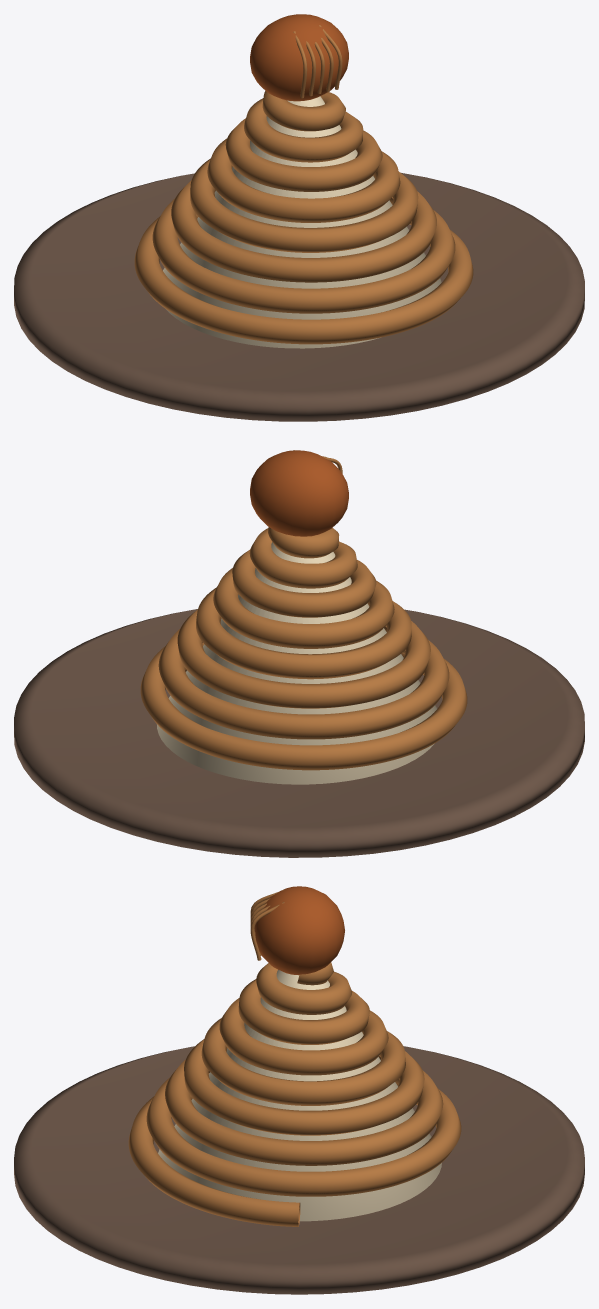
File: 54-montblanc.glb
3 renders of one model, top to bottom at view 1: azimuth 30°, elevation 25°; view 2: azimuth 150°, elevation 25°; view 3: azimuth 270°, elevation 25°, orthographic.
Visible parts, largest first — view 1: 밤 몽블랑; view 2: 밤 몽블랑; view 3: 밤 몽블랑.
Part boxes in pixels (x1,y1,x2,y2): 밤 몽블랑: (14, 14, 584, 421); 밤 몽블랑: (14, 450, 584, 857); 밤 몽블랑: (14, 886, 584, 1294).
Size of the model in its own units: 2 by 1.15 by 2.
